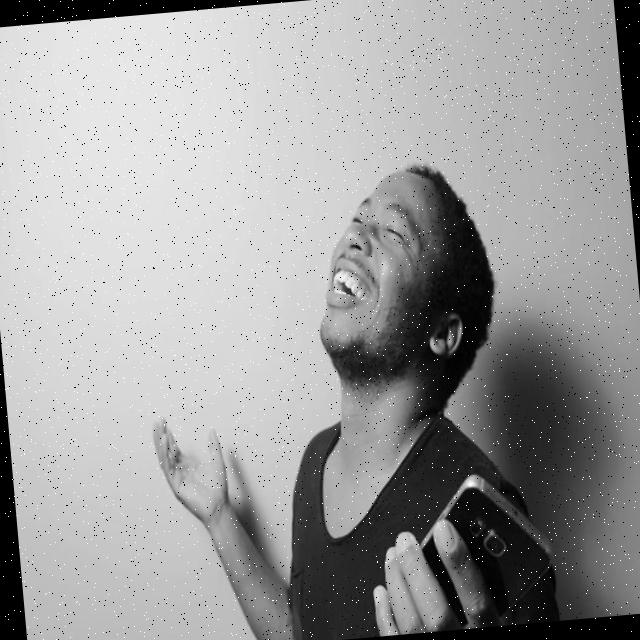Happiness: (297, 170, 468, 386)
